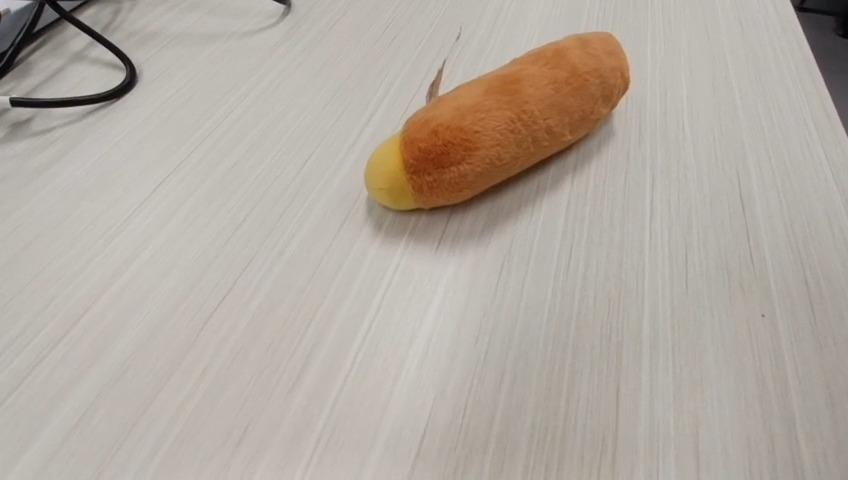hotdog: (363, 28, 630, 212)
